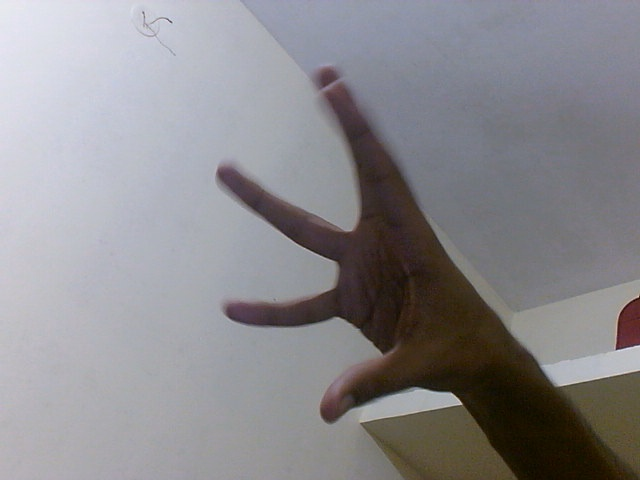hand: (215, 65, 520, 428)
